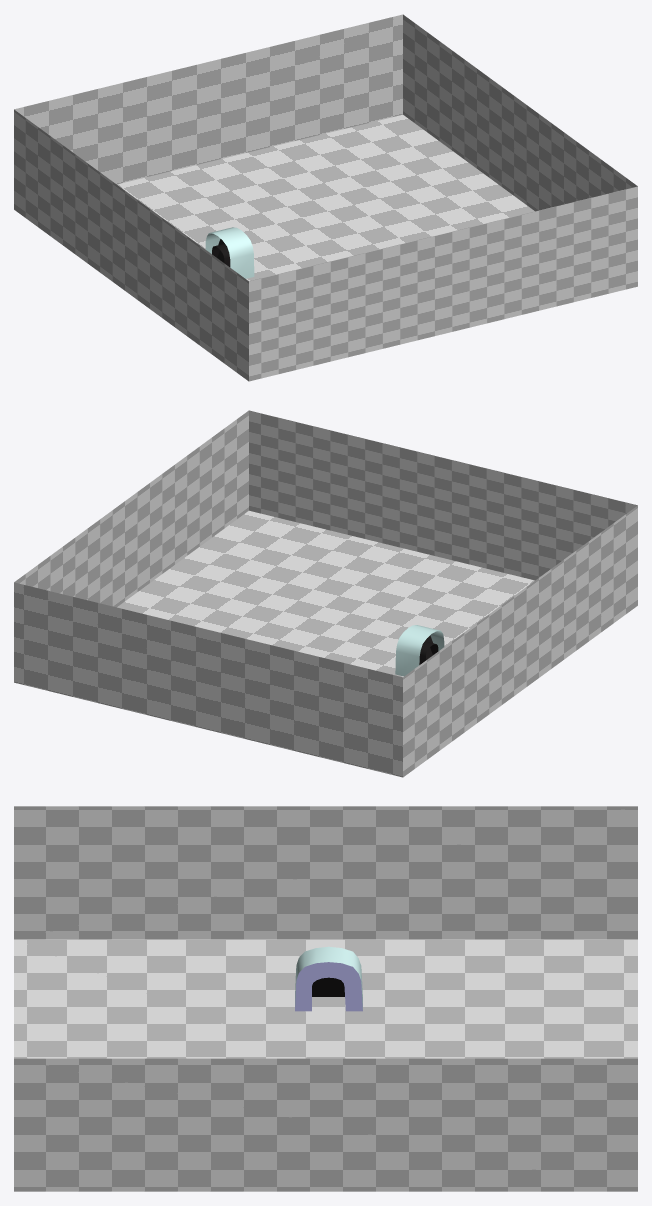
The model's file is loc1.obj.
3 views of the same model, one above another, from view 1: azimuth 30°, elevation 25°; view 2: azimuth 150°, elevation 25°; view 3: azimuth 270°, elevation 25° (orthographic). The views are drawn at different scales.
Visible parts, largest first — view 1: pCube1, arch1:Mesh; view 2: pCube1, arch1:Mesh; view 3: pCube1, arch2:Mesh, arch1:Mesh, pPlane1.
Part boxes in pixels (bbox=[...]): pCube1: bbox=[14, 14, 637, 381]; arch1:Mesh: bbox=[205, 227, 254, 278]; pCube1: bbox=[14, 410, 637, 777]; arch1:Mesh: bbox=[395, 625, 444, 676]; pCube1: bbox=[14, 806, 637, 1191]; arch2:Mesh: bbox=[295, 962, 362, 1011]; arch1:Mesh: bbox=[295, 946, 362, 1009]; pPlane1: bbox=[312, 977, 344, 996].
Size of the model in its own units: 1247 by 311 by 1304.
Materials: 4 (4 with a texture image).
